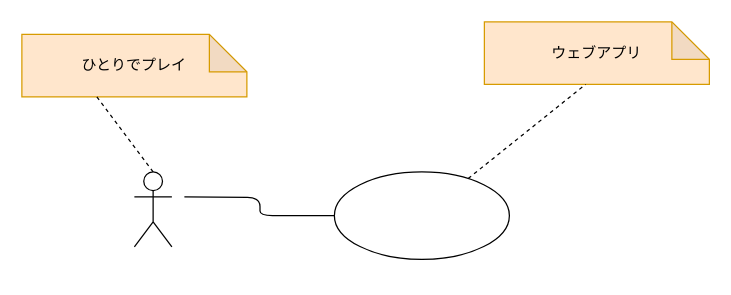
Some shapes in this 731 by 295 pixel diagram are drawn without their labels. The shapes that lost their labels are listed below. From the top down, each one's centre as x and y in pixels, then its label:
At point 152,209: "プレイヤー".
At point 421,215: "リバーシ アプリケーション".
